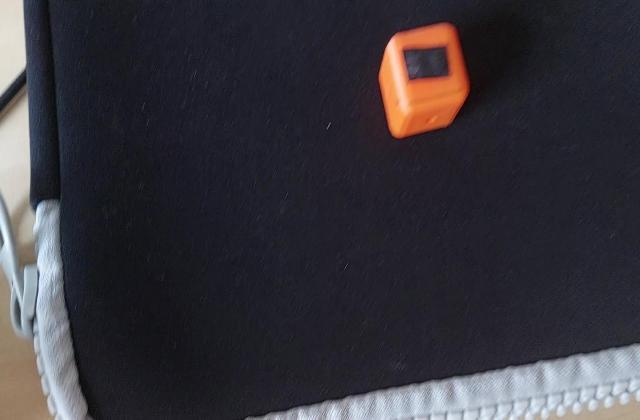black: (394, 42, 457, 91)
sticker: (376, 21, 474, 145)
